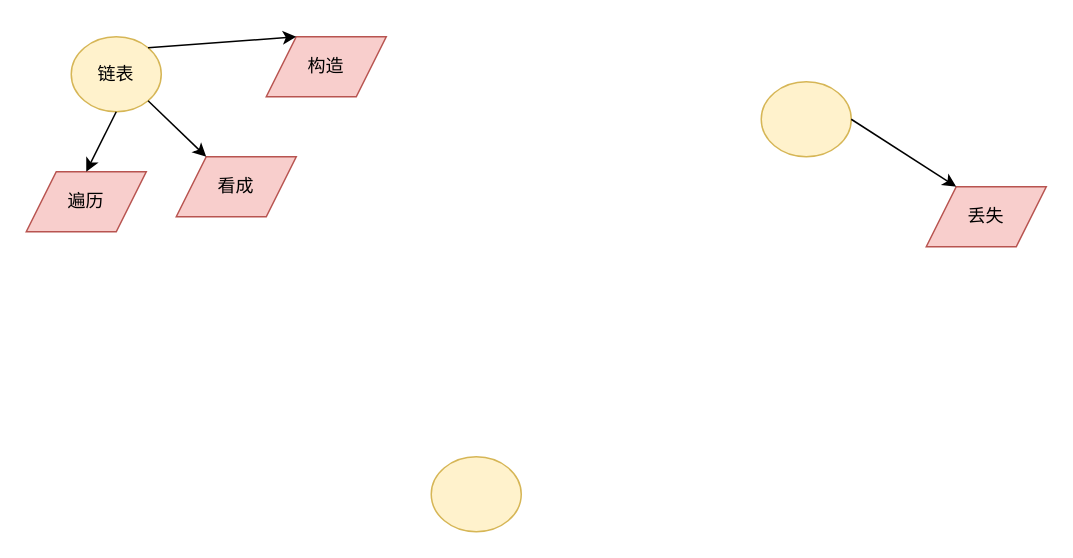
The diagram is 1073 pixels wide and 558 high, and some of its shapes have lost their labels. The centre of each missing label's shape, as x and y in pixels:
"指针" belongs at point (805, 118).
"递归" belongs at point (475, 493).
